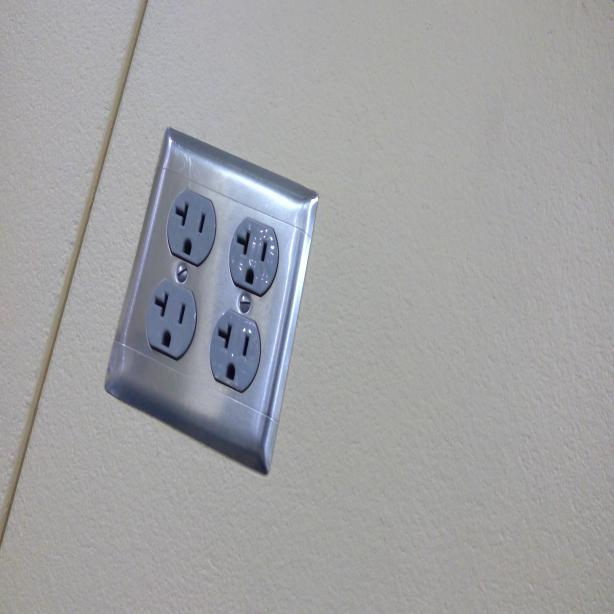typeb: (210, 314, 266, 399), (165, 180, 216, 265), (232, 212, 276, 291), (146, 284, 195, 354)
